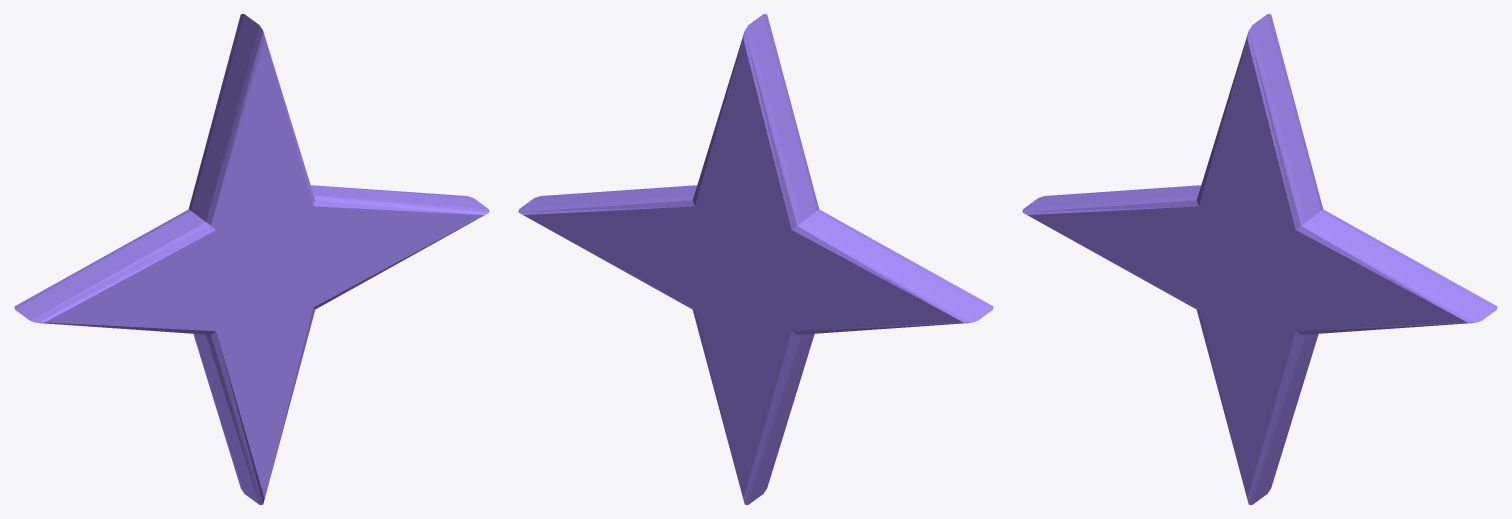
Rendered from brand-star.glb.
The picture shows the model from 3 angles, left to right: view 1: azimuth 30°, elevation 25°; view 2: azimuth 150°, elevation 25°; view 3: azimuth 330°, elevation 25°; orthographic projection.
Bounding box in the file's own units: 2.08 × 2.08 × 0.2.
